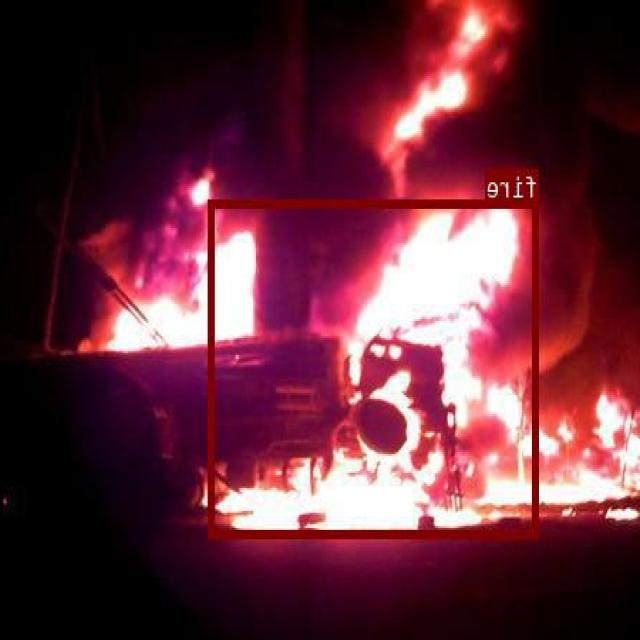fire: (210, 199, 539, 536)
